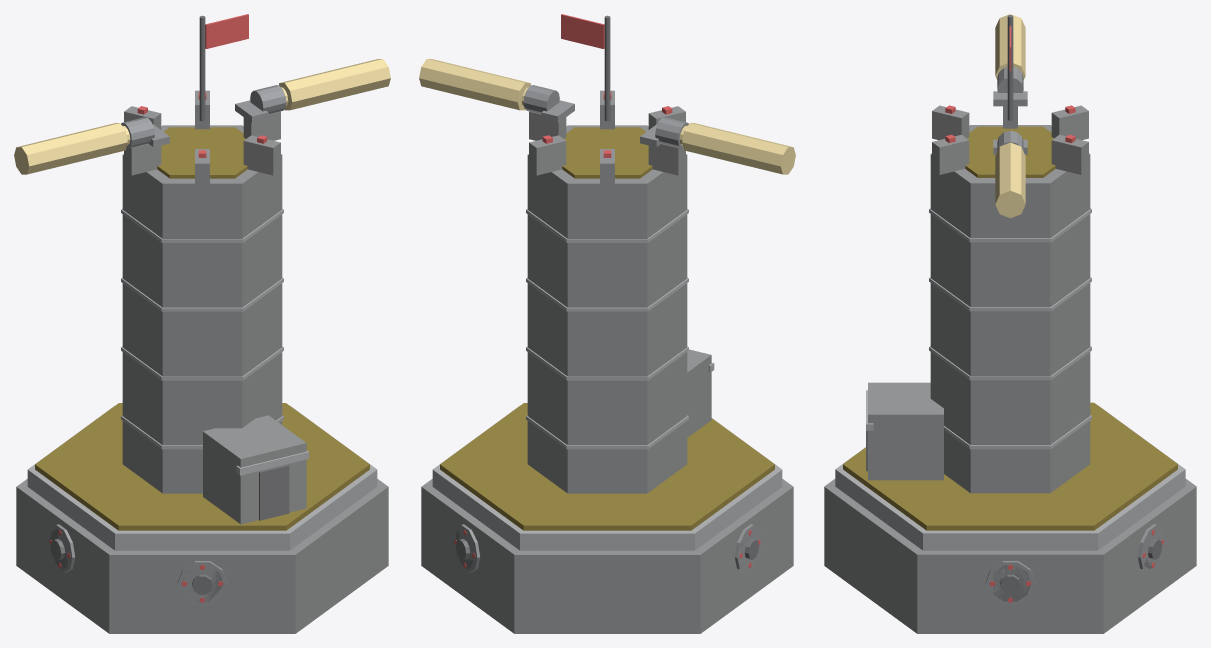
File: watch_tower_s2_100.glb
3 renders of one model, left to right at view 1: azimuth 30°, elevation 25°; view 2: azimuth 150°, elevation 25°; view 3: azimuth 270°, elevation 25°, orthographic.
Parts seen in each view (by area): view 1: WatchTower_s2; view 2: WatchTower_s2; view 3: WatchTower_s2.
Boxes of the visible parts, box(x1,y1,x2,y2) form: WatchTower_s2: box(14, 14, 390, 633); WatchTower_s2: box(419, 14, 795, 633); WatchTower_s2: box(824, 14, 1196, 633).
Bounding box in the file's own units: 2.2 × 3.19 × 1.96.
